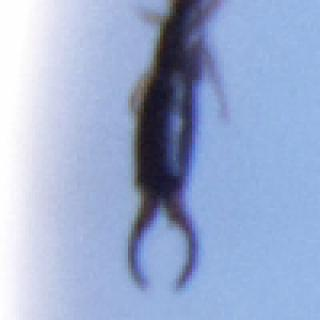earwig: (123, 0, 238, 300)
